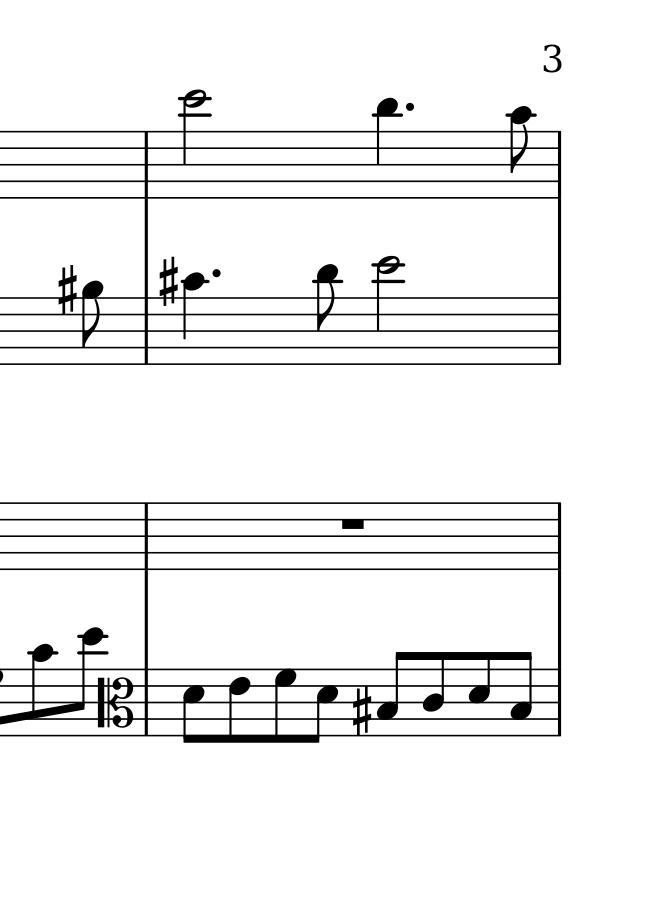2_12: (373, 254, 404, 369), (182, 89, 209, 202)
3: (541, 39, 563, 74)
4_10: (179, 272, 210, 369)
4_11: (374, 96, 401, 200)
8_10: (27, 642, 54, 739), (507, 105, 534, 201)
8_11: (315, 262, 342, 368)
8_12: (74, 627, 107, 741)
8_3: (375, 650, 411, 738), (511, 651, 535, 736)
8_4: (423, 649, 449, 739)
8_5: (308, 667, 340, 746), (467, 649, 493, 738), (181, 667, 207, 748)
8_6: (226, 666, 251, 748)
8_7: (271, 668, 299, 746)
8_9: (80, 279, 106, 369)
Cclef: (98, 666, 134, 739)
Rests1: (338, 515, 368, 534)
Sharp: (155, 257, 179, 308), (350, 687, 373, 734), (57, 263, 77, 314)
Single_barline: (550, 130, 566, 202), (139, 129, 155, 199), (552, 501, 567, 575), (139, 502, 155, 571), (138, 296, 153, 367), (552, 667, 566, 740), (139, 667, 154, 735), (551, 295, 565, 366)
dot: (209, 265, 226, 284), (401, 98, 418, 116), (209, 263, 224, 283), (403, 100, 415, 115)
